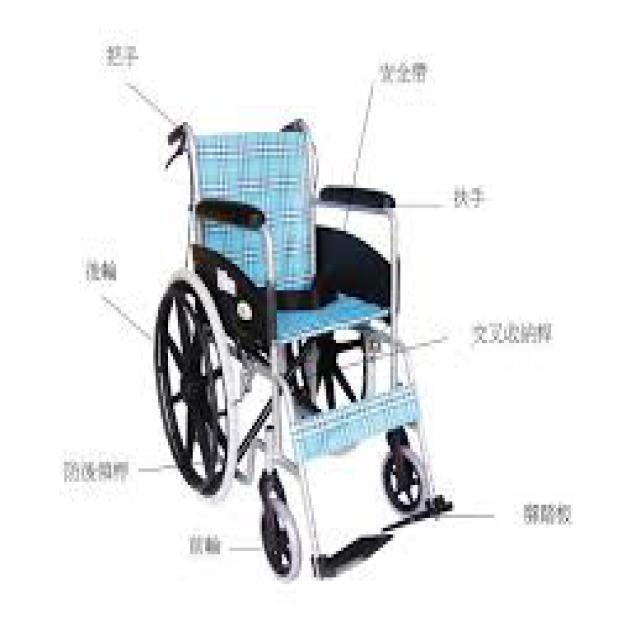wheelchair: (143, 105, 450, 590)
